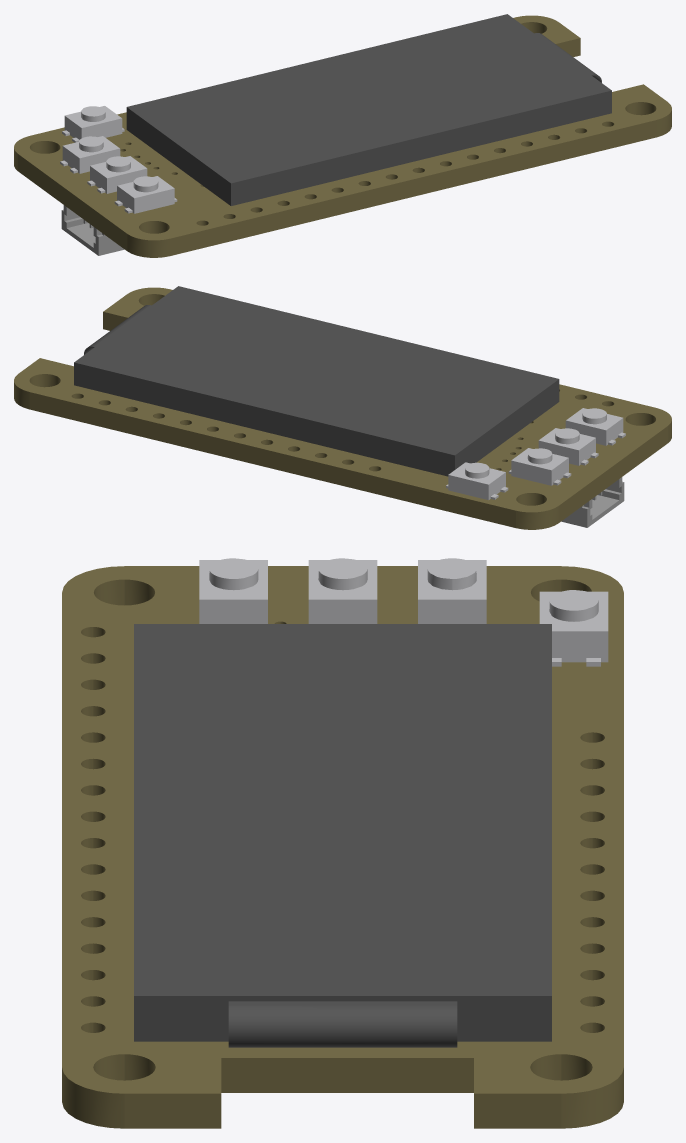
Rendered from ada-4650.glb.
The picture shows the model from 3 angles, top to bottom: view 1: azimuth 30°, elevation 25°; view 2: azimuth 150°, elevation 25°; view 3: azimuth 270°, elevation 25°; orthographic projection. The views are drawn at different scales.
Parts seen in each view (by area): view 1: 0.08333333333333333_0.08333333333333333_0.08333333333333333_, 0.16666666666666666_0.16666666666666666_0.08333333333333333_, 0.5833333333333334_0.5833333333333334_0.5833333333333334_0.8, 0.3333333333333333_0.3333333333333333_0.3333333333333333_0; view 2: 0.08333333333333333_0.08333333333333333_0.08333333333333333_, 0.16666666666666666_0.16666666666666666_0.08333333333333333_, 0.5833333333333334_0.5833333333333334_0.5833333333333334_0.8, 0.3333333333333333_0.3333333333333333_0.3333333333333333_0; view 3: 0.08333333333333333_0.08333333333333333_0.08333333333333333_, 0.16666666666666666_0.16666666666666666_0.08333333333333333_, 0.5833333333333334_0.5833333333333334_0.5833333333333334_0.8.
Part boxes in pixels (x1,y1,x2,y2): 0.08333333333333333_0.08333333333333333_0.08333333333333333_: [126, 14, 611, 205]; 0.16666666666666666_0.16666666666666666_0.08333333333333333_: [14, 15, 671, 257]; 0.5833333333333334_0.5833333333333334_0.5833333333333334_0.8: [60, 106, 177, 213]; 0.3333333333333333_0.3333333333333333_0.3333333333333333_0: [61, 205, 124, 255]; 0.08333333333333333_0.08333333333333333_0.08333333333333333_: [74, 286, 559, 476]; 0.16666666666666666_0.16666666666666666_0.08333333333333333_: [14, 287, 671, 529]; 0.5833333333333334_0.5833333333333334_0.5833333333333334_0.8: [446, 408, 625, 500]; 0.3333333333333333_0.3333333333333333_0.3333333333333333_0: [561, 477, 624, 527]; 0.08333333333333333_0.08333333333333333_0.08333333333333333_: [134, 624, 551, 1047]; 0.16666666666666666_0.16666666666666666_0.08333333333333333_: [62, 566, 623, 1128]; 0.5833333333333334_0.5833333333333334_0.5833333333333334_0.8: [199, 558, 608, 666].
Bounding box in the file's own units: 5.08 × 0.6587 × 2.29.
